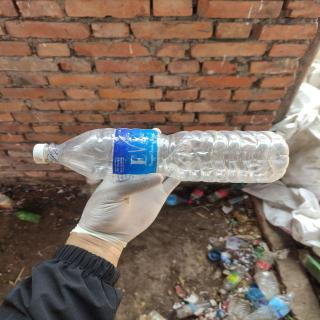Plastic-bottle: (31, 127, 294, 188)
